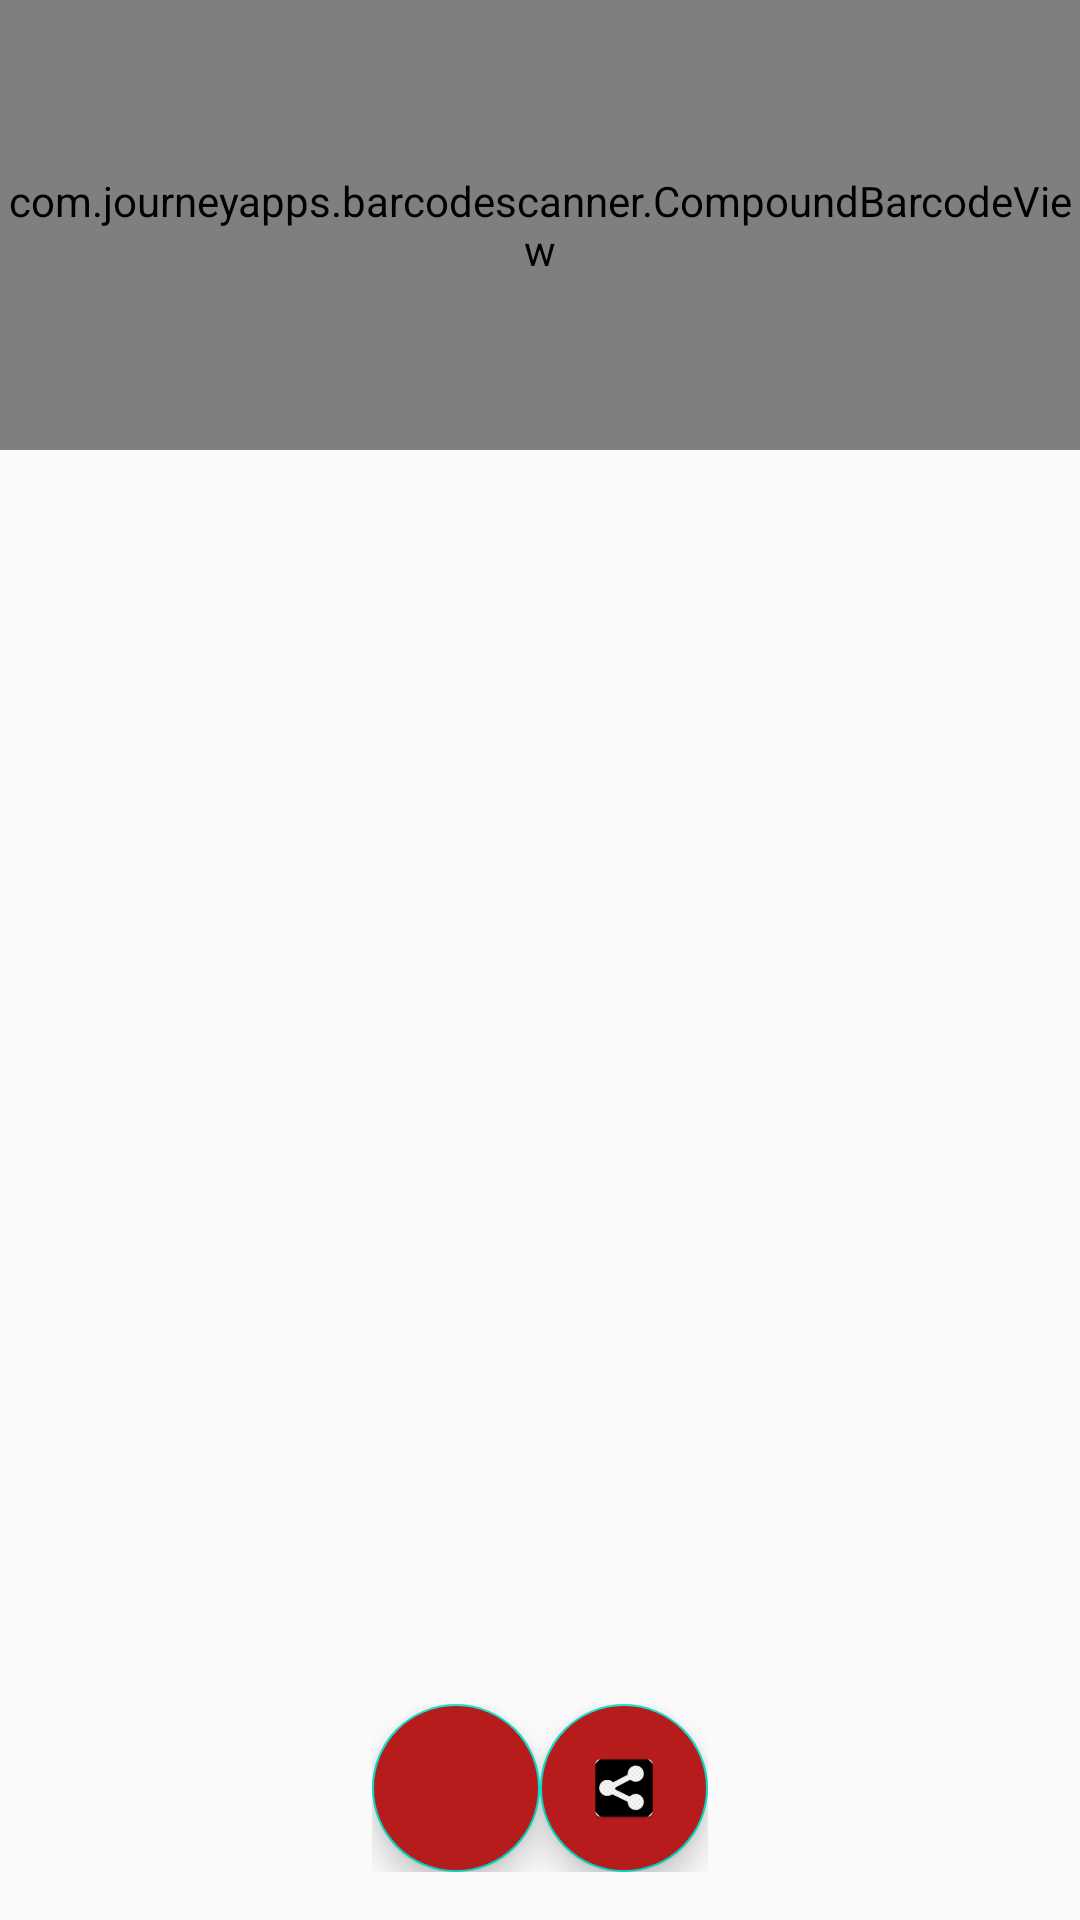

Locate icon controls on the screen. Image size 1080px x 1920px, boxes as (x1, y1, x2, y2).
compartir: (540, 1704, 708, 1872)
